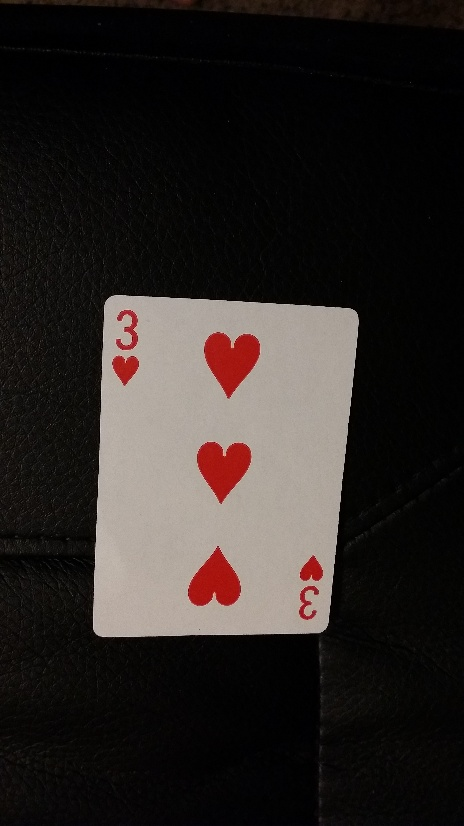H3: (112, 303, 143, 387), (292, 547, 324, 624)
